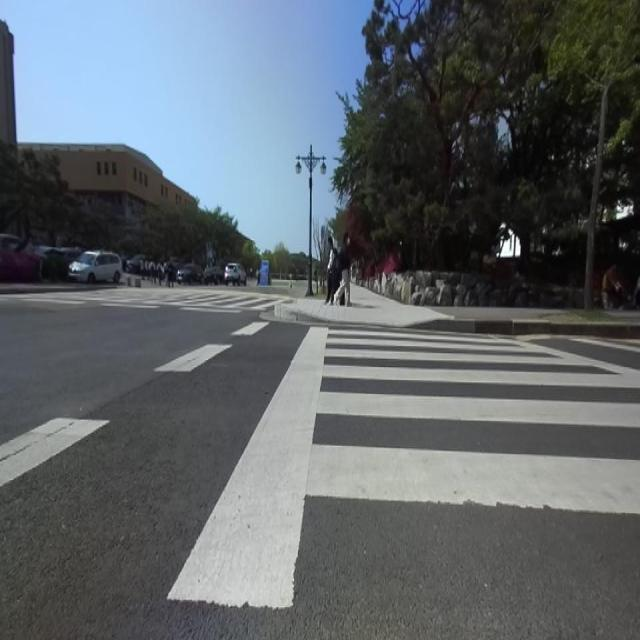sidewalk: (274, 284, 452, 327), (436, 306, 541, 319), (612, 310, 640, 321)
